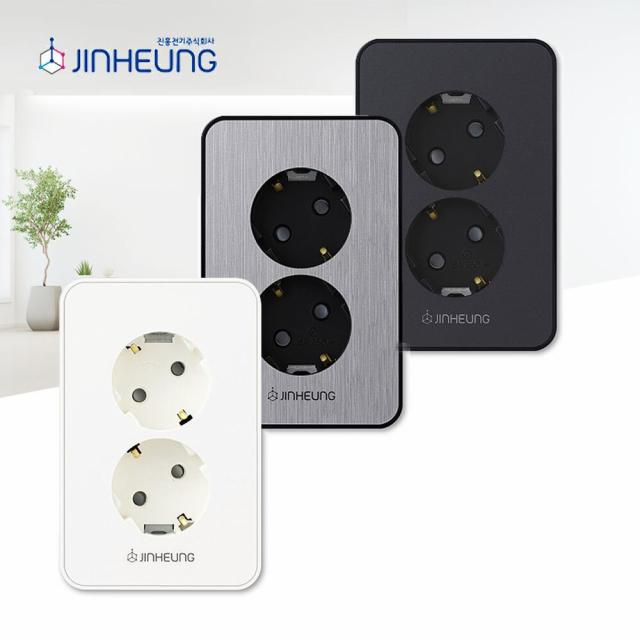typeb: (36, 256, 274, 604), (380, 37, 564, 402)
